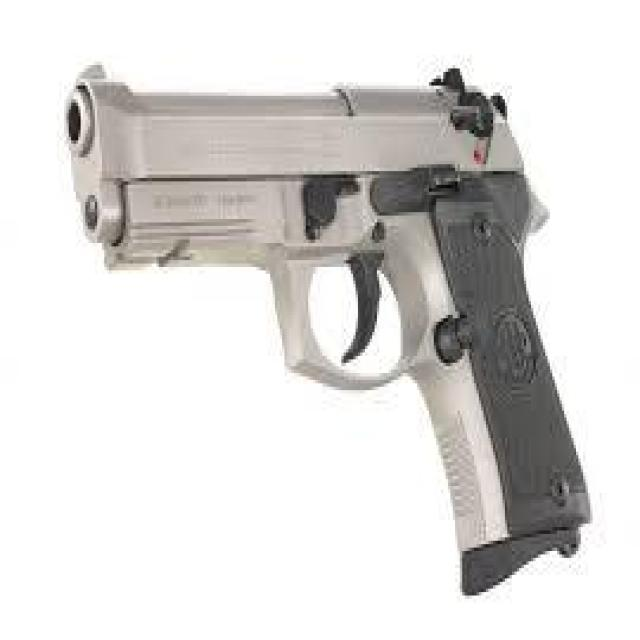Gun: (36, 57, 604, 613)
